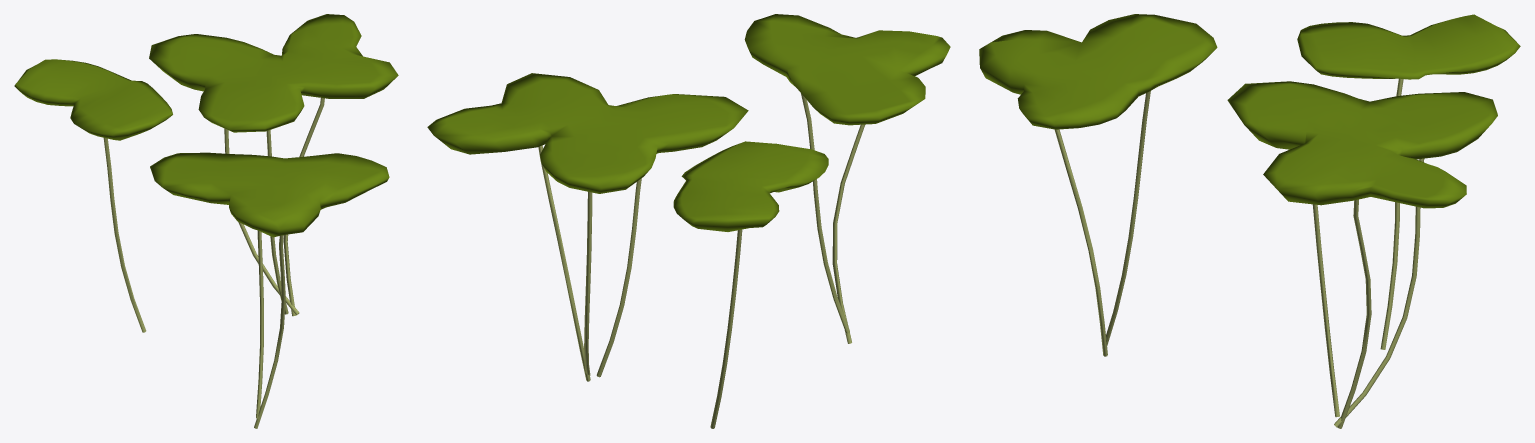
Rendered from Lemna gibba.fbx.
3 renders of one model, left to right at view 1: azimuth 30°, elevation 25°; view 2: azimuth 150°, elevation 25°; view 3: azimuth 270°, elevation 25°, orthographic. The views are drawn at different scales.
Visible parts, largest first — view 1: Circle.050, Top.004, Top.005, Stem.052, Stem2.003, Stem1.001, Stem2.002, Stem3.001, Stem.051; view 2: Circle.050, Top.004, Top.005, Stem2.002, Stem1.001, Stem.051, Stem2.003, Stem.052, Stem3.001; view 3: Circle.050, Top.004, Top.005, Stem1.001, Stem3.001, Stem2.002, Stem2.003, Stem.051, Stem.052.
Part boxes in pixels (x1,y1,x2,y2): Circle.050: (149,14,398,132); Top.004: (150,152,389,237); Top.005: (14,59,172,140); Stem.052: (103,138,146,332); Stem2.003: (254,235,285,428); Stem1.001: (256,230,263,418); Stem2.002: (283,98,324,316); Stem3.001: (224,128,299,315); Stem.051: (266,130,288,314); Circle.050: (427,73,748,193); Top.004: (744,14,950,125); Top.005: (673,141,828,231); Stem2.002: (538,145,590,381); Stem1.001: (801,93,849,333); Stem.051: (596,178,641,377); Stem2.003: (832,124,864,343); Stem.052: (710,229,742,428); Stem3.001: (584,191,592,375); Circle.050: (1227,81,1497,208); Top.004: (979,14,1217,129); Top.005: (1297,14,1520,79); Stem1.001: (1106,91,1150,346); Stem3.001: (1334,158,1424,427); Stem2.002: (1337,199,1371,428); Stem2.003: (1054,129,1107,356); Stem.051: (1312,204,1339,417); Stem.052: (1380,78,1403,349).
Size of the model in its own units: 536 by 402 by 666.
